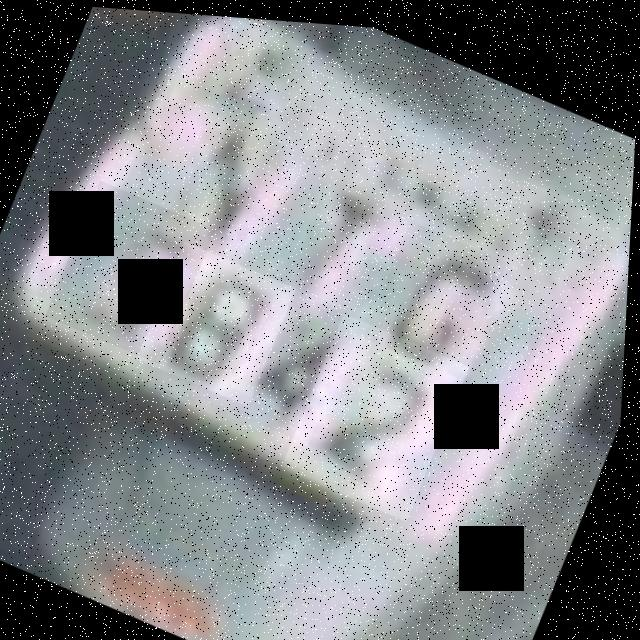2: (284, 304, 474, 518)
4: (220, 274, 376, 448)
5: (47, 176, 219, 365)
8: (139, 235, 300, 405)
C: (365, 212, 511, 374)
